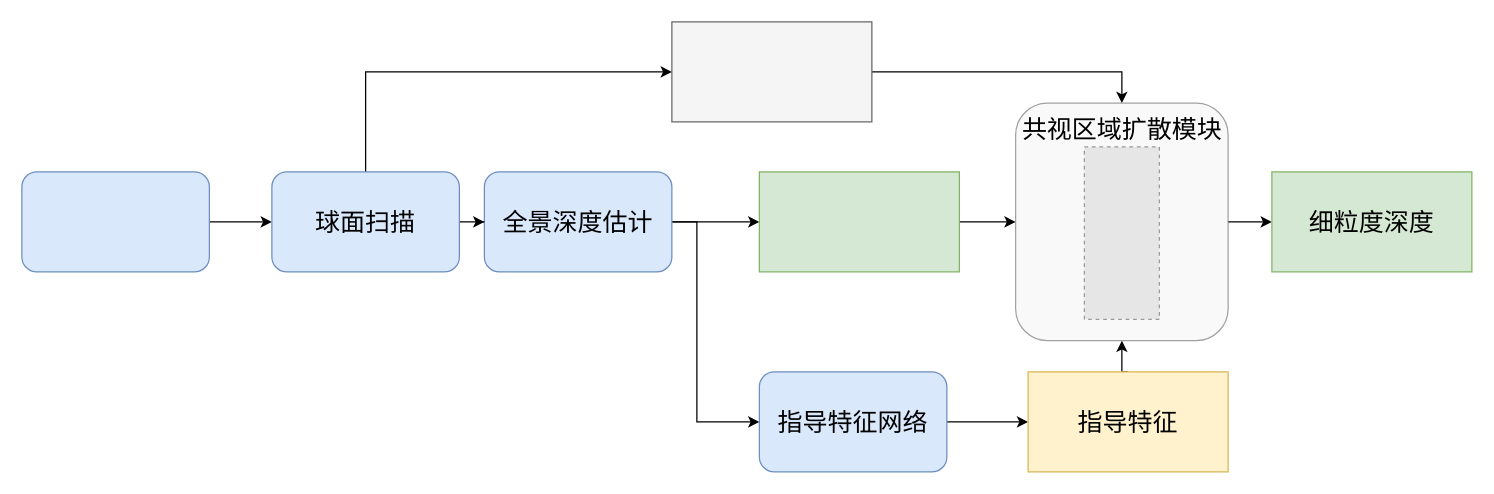
Image size: 1494x494. Some labels were removed from this diagram. Grey dashed boxes stand in for pictures. Each missing label, with the box of its shape:
共视区域掩码: (671, 21, 872, 122)
环视多相机输入: (21, 171, 209, 272)
粗粒度深度: (758, 171, 959, 272)
